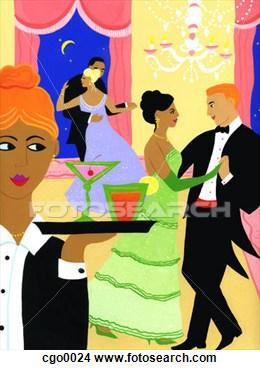person: (1, 61, 101, 350), (110, 85, 200, 347), (186, 79, 256, 349), (62, 69, 151, 210)
